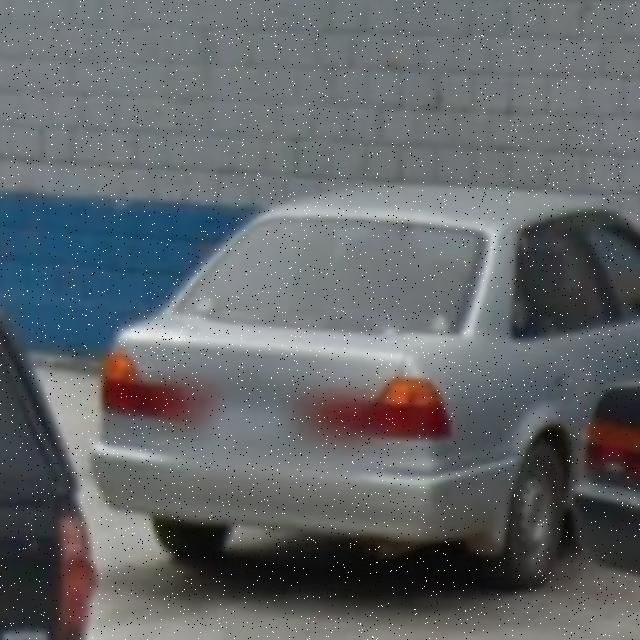cars: (94, 170, 614, 589)
